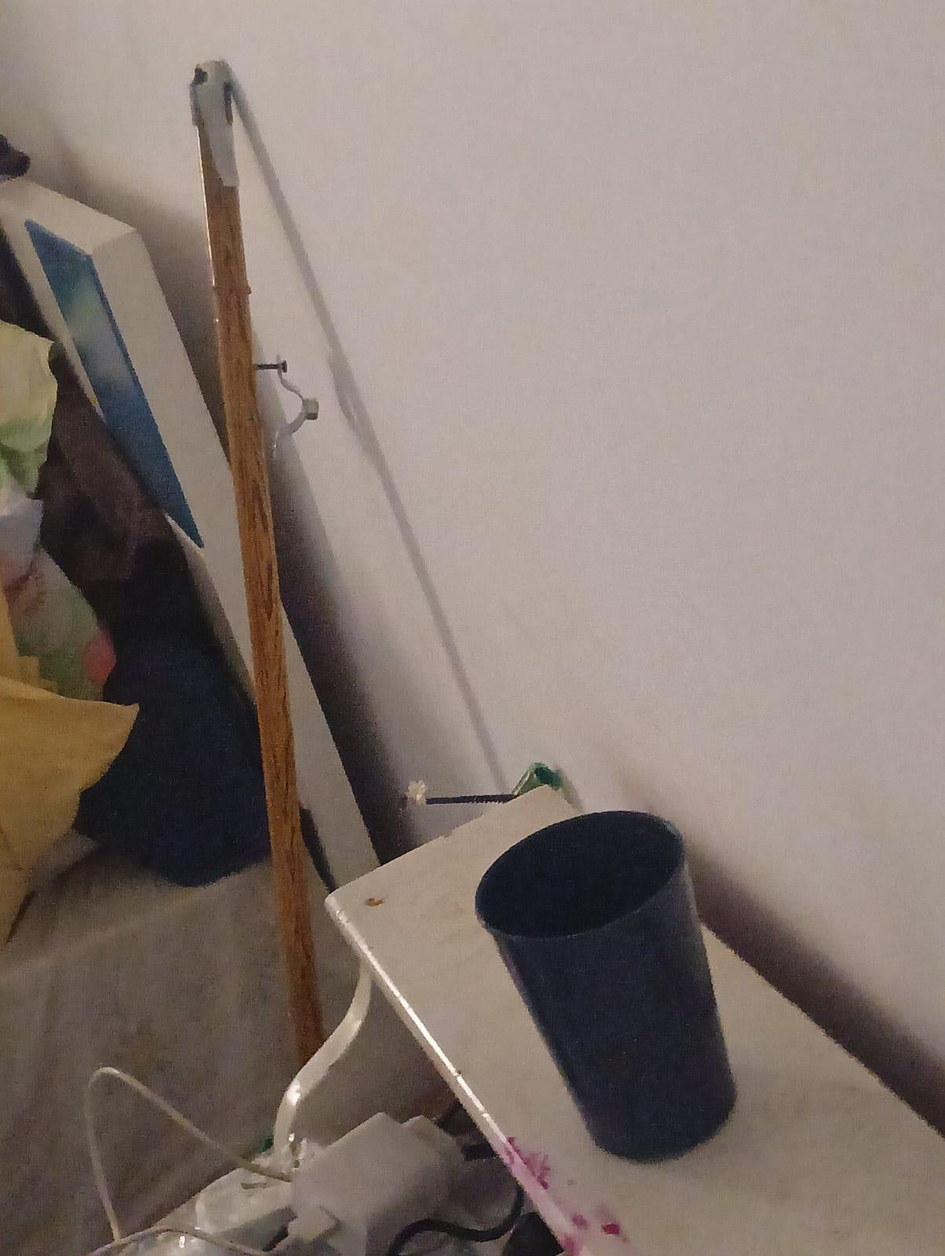cup: (475, 811, 735, 1161), (480, 835, 681, 914)
